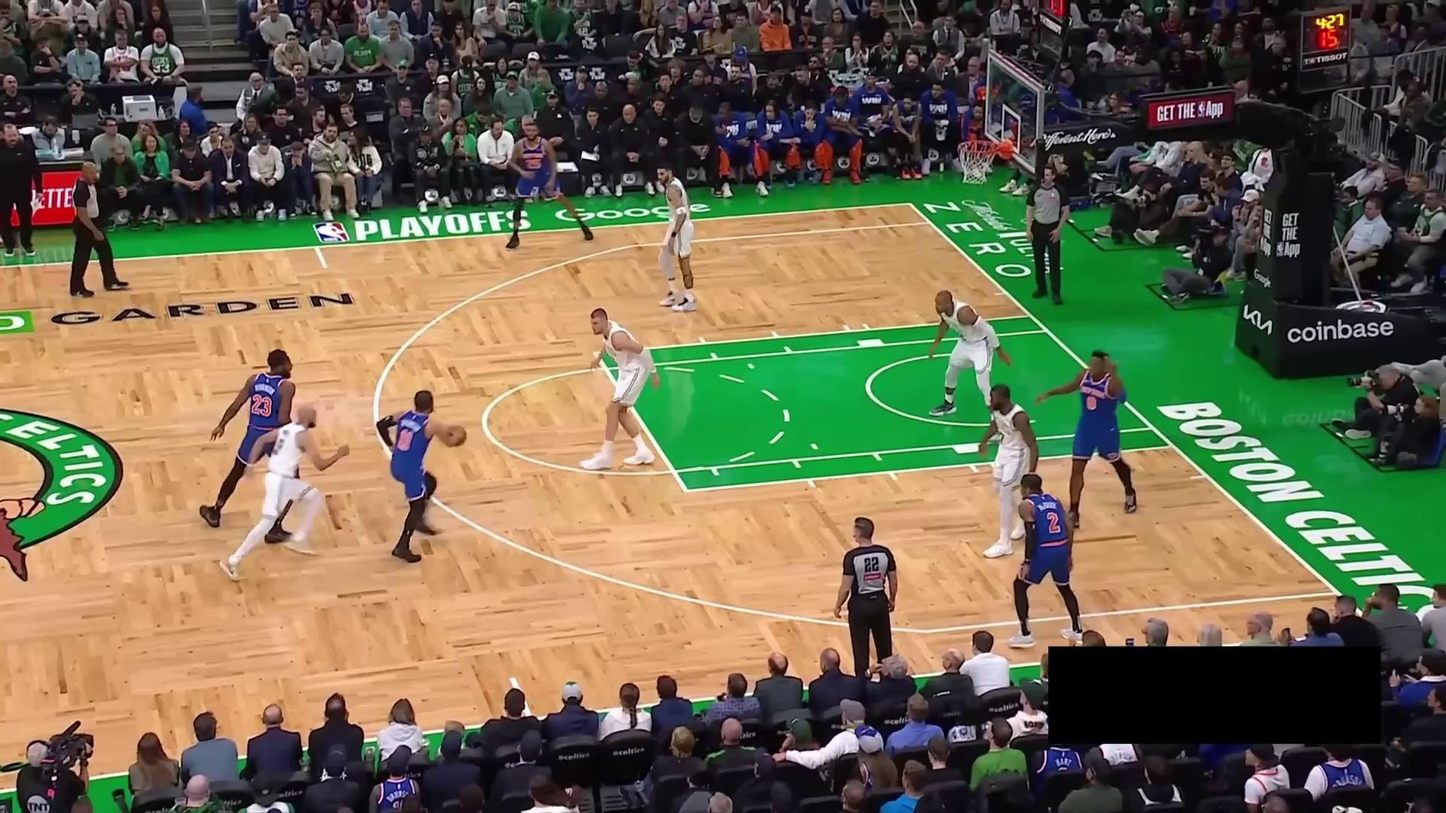ball: (442, 423, 467, 447)
number: (251, 393, 273, 417), (397, 426, 413, 452), (1045, 511, 1060, 534), (526, 158, 541, 170), (1086, 395, 1097, 411)
player: (218, 403, 351, 583), (199, 348, 300, 540), (1036, 349, 1139, 531), (1006, 471, 1085, 650), (579, 306, 661, 470), (927, 288, 1014, 422), (505, 120, 593, 250), (979, 383, 1039, 559), (654, 163, 697, 313)
player-in-possession: (376, 389, 469, 564)
referee: (834, 516, 898, 680), (68, 161, 130, 298), (1025, 163, 1072, 306)
rim: (956, 139, 1000, 154)
